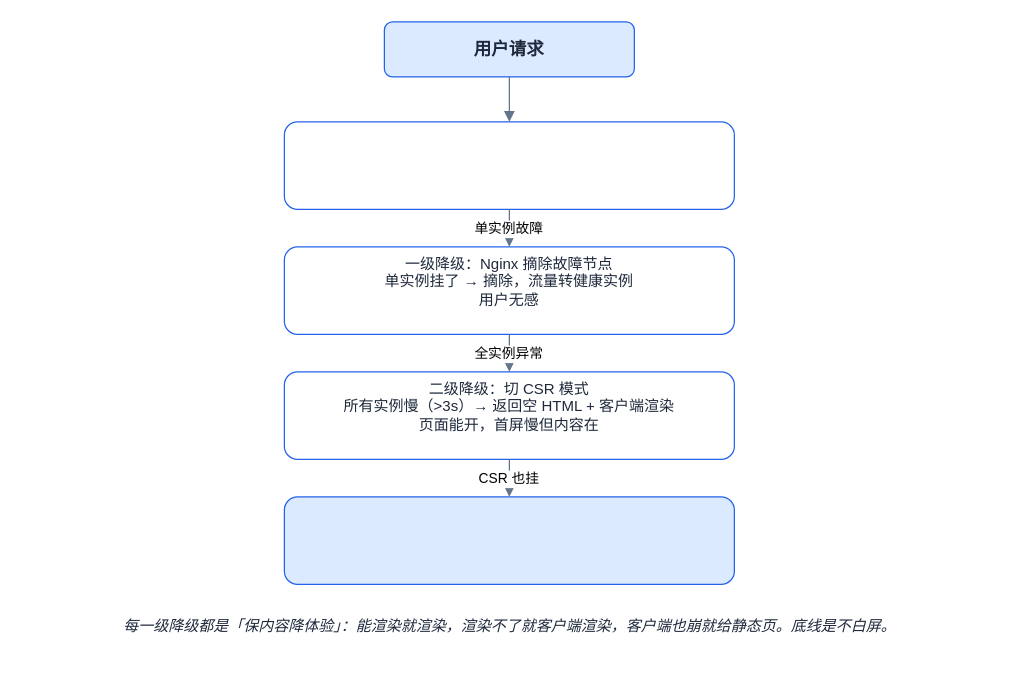
The diagram is 1018 pixels wide and 681 high, and some of its shapes have lost their labels. Each missing label, with the centre of its shape:
"三级降级：静态兜底页 Nginx rewrite 到 CDN 静态页 「服务维护中」，绝不白屏" goes at (x=508, y=540).
"正常：SSR 实例渲染 Nginx 探活全绿，实时渲染返回" goes at (x=508, y=165).
